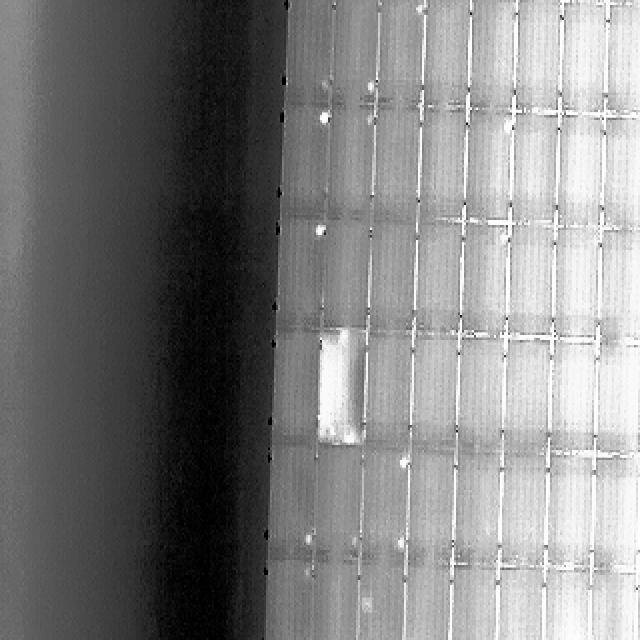Hotspots: (337, 526, 359, 551), (393, 530, 408, 560), (360, 591, 378, 613), (363, 74, 376, 100), (497, 118, 513, 139), (299, 534, 313, 553), (398, 452, 410, 470), (318, 111, 332, 126), (498, 230, 509, 248), (300, 565, 317, 576)
PV-modules: (313, 444, 364, 564), (360, 336, 411, 452), (357, 446, 407, 564), (318, 332, 368, 450), (409, 338, 459, 455), (325, 105, 375, 221), (404, 450, 454, 566), (412, 222, 462, 338), (460, 224, 510, 340), (266, 446, 316, 562), (508, 223, 558, 338), (416, 111, 466, 226), (270, 333, 320, 448), (590, 455, 640, 570), (505, 340, 554, 456), (457, 340, 506, 456), (453, 450, 502, 566), (369, 111, 418, 227), (554, 117, 604, 230), (544, 453, 593, 568), (511, 112, 561, 224), (552, 225, 600, 341), (502, 451, 550, 567), (320, 221, 371, 330), (465, 112, 513, 227), (558, 4, 606, 119), (279, 109, 327, 224), (286, 0, 336, 110), (370, 223, 419, 335), (516, 3, 564, 116), (548, 344, 596, 455), (274, 220, 322, 331), (468, 0, 516, 110), (420, 0, 468, 110), (378, 0, 426, 110), (330, 0, 378, 108), (594, 345, 640, 457), (598, 228, 640, 342), (602, 118, 640, 232), (604, 2, 640, 118), (265, 564, 315, 638), (402, 567, 450, 640), (356, 568, 404, 640), (499, 570, 547, 640), (451, 570, 498, 640), (542, 573, 590, 640), (317, 566, 361, 639), (588, 573, 635, 640), (634, 575, 640, 640), (638, 458, 640, 570), (606, 0, 640, 2)
